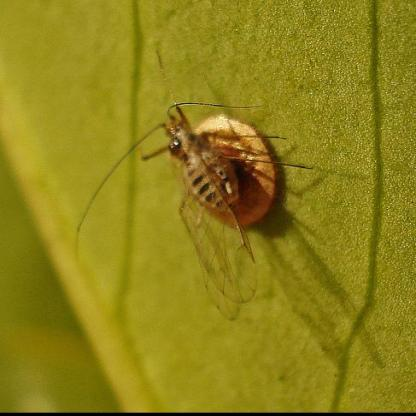aphid: (98, 89, 302, 281)
